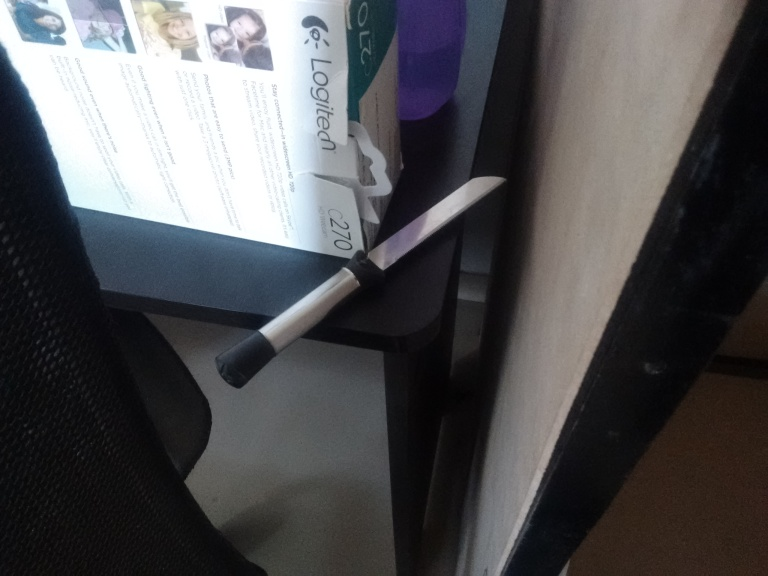knife: (218, 174, 507, 392)
